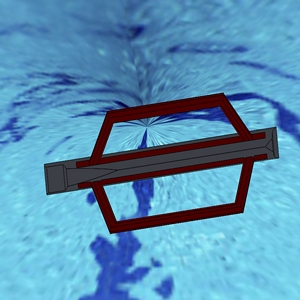submarine: (32, 80, 300, 253)
